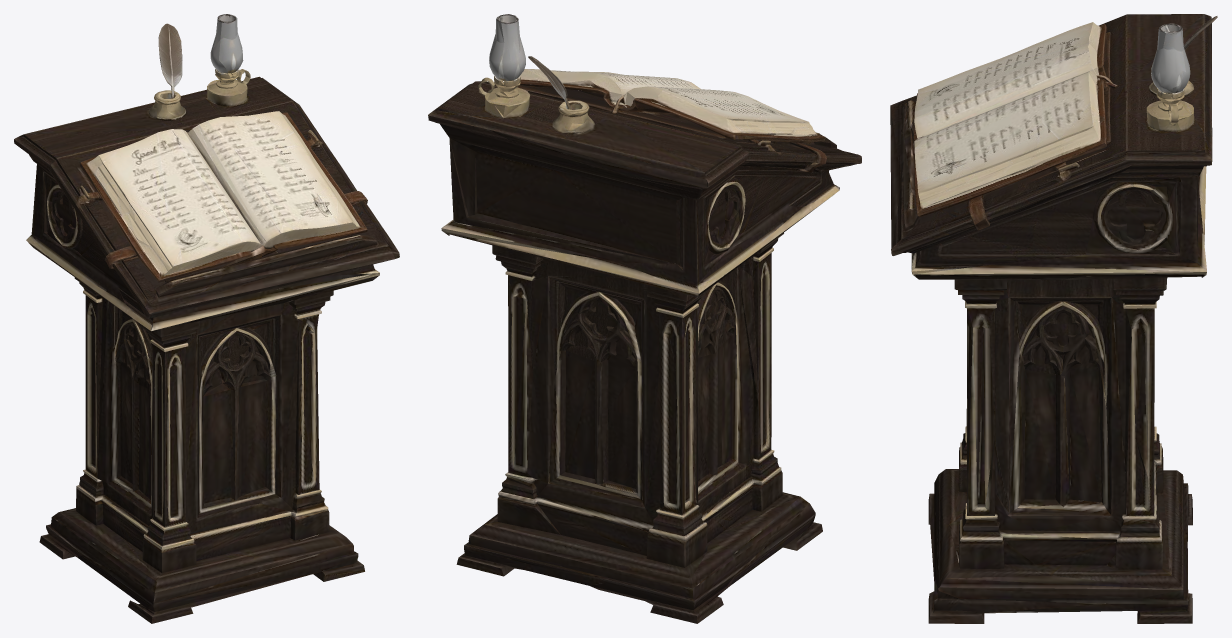
Rendered from sp_m_lectern.glb.
3 renders of one model, left to right at view 1: azimuth 30°, elevation 25°; view 2: azimuth 150°, elevation 25°; view 3: azimuth 270°, elevation 25°, orthographic. The views are drawn at different scales.
Visible parts, largest first — view 1: Mesh_0; view 2: Mesh_0; view 3: Mesh_0.
Part boxes in pixels (x1,y1,x2,y2): Mesh_0: [14, 14, 399, 623]; Mesh_0: [428, 14, 861, 623]; Mesh_0: [890, 14, 1217, 623].
Bounding box in the file's own units: 1.05 × 1.9 × 0.9798.
Materials: 1 (1 with a texture image).
